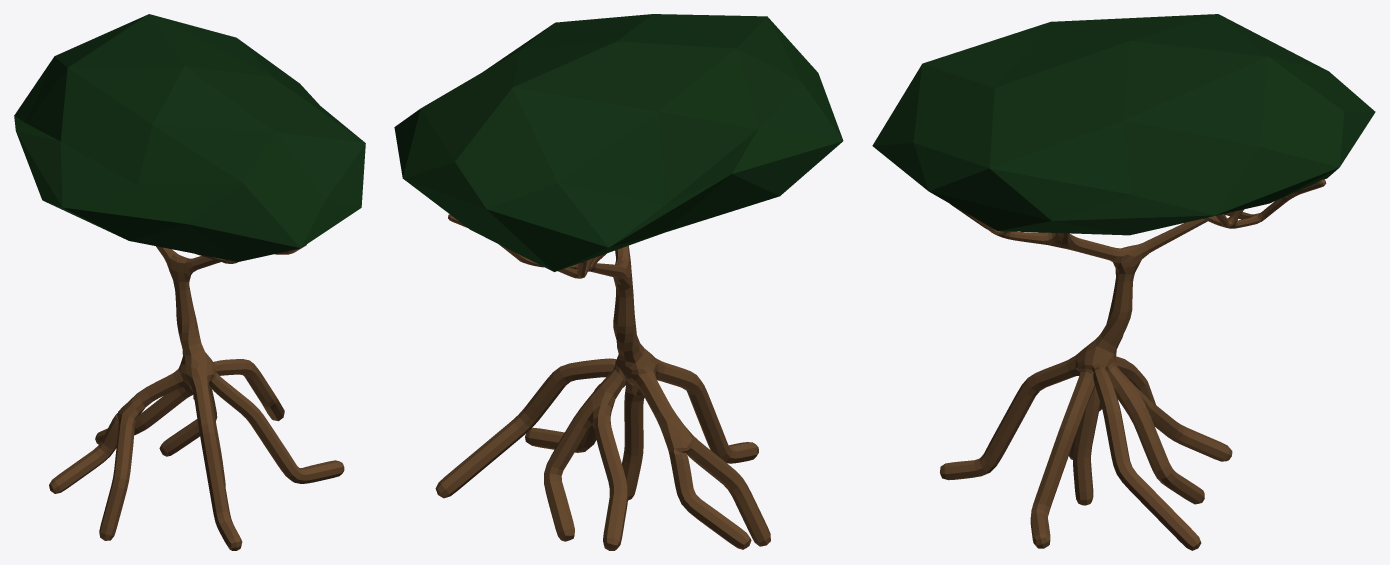
The model's file is tree2-2.fbx.
The picture shows the model from 3 angles, left to right: view 1: azimuth 30°, elevation 25°; view 2: azimuth 150°, elevation 25°; view 3: azimuth 270°, elevation 25°; orthographic projection. The views are drawn at different scales.
Visible parts, largest first — view 1: Cube_LOD0; view 2: Cube_LOD0; view 3: Cube_LOD0.
Boxes of the visible parts, x1,y1,x2,y2 form: Cube_LOD0: [14, 14, 365, 550]; Cube_LOD0: [394, 14, 843, 550]; Cube_LOD0: [872, 14, 1375, 550].
Size of what is drawn, in the model's own units: 748 by 981 by 946.
